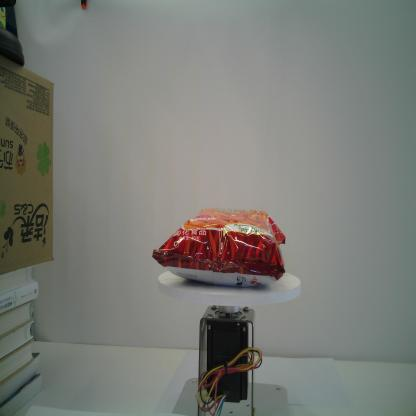Puffed Food: (151, 206, 286, 287)
